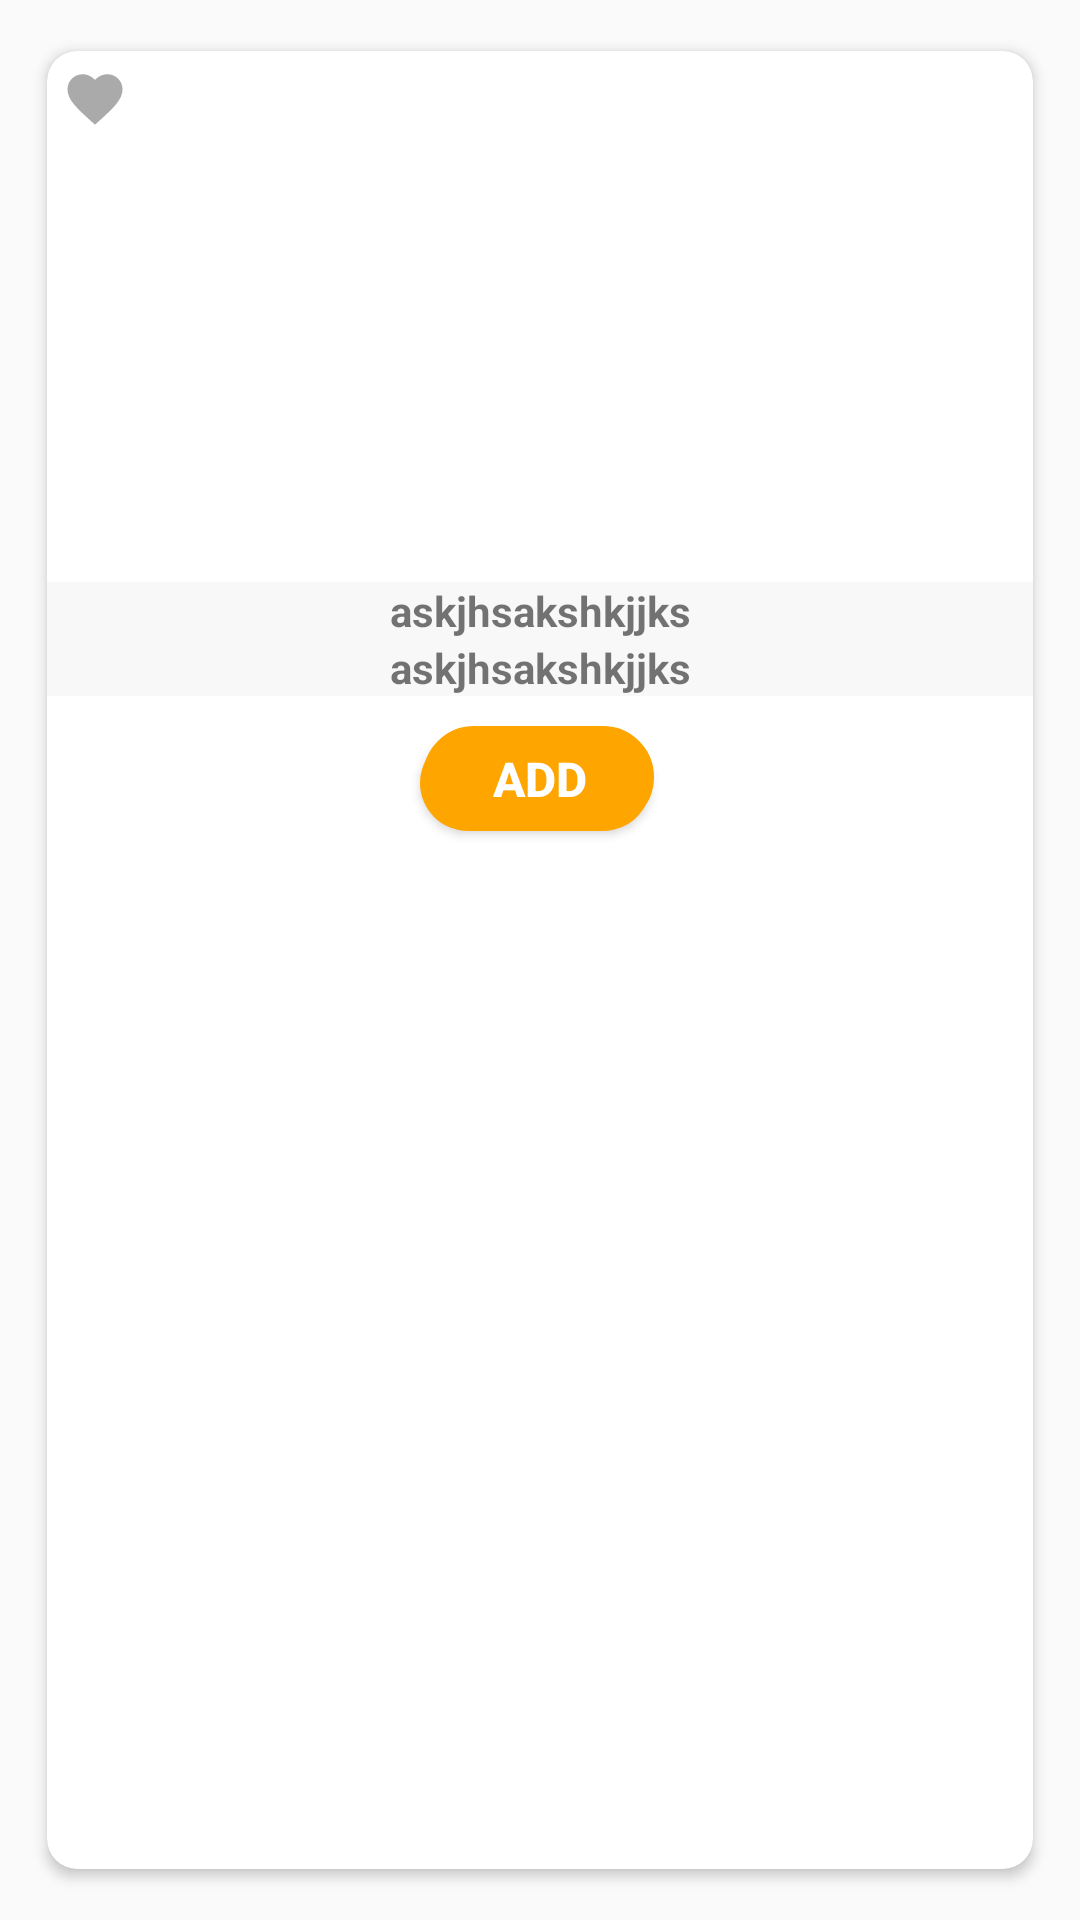

Icons on this 1080×1920 Android screen, each with its box as detection(x1, y1, x2, y2):
wishlist: detection(67, 74, 123, 124)
